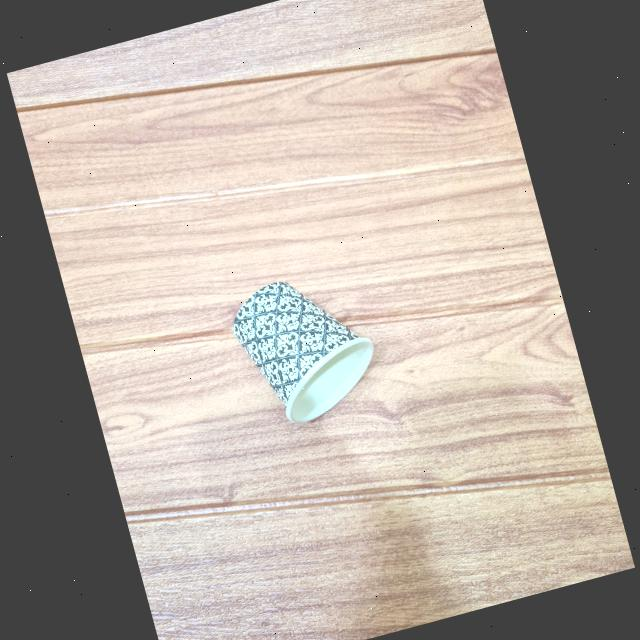trash: (214, 256, 393, 440)
